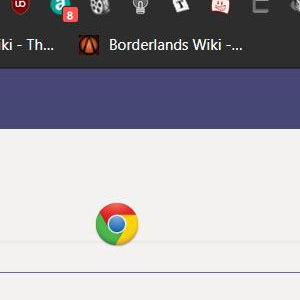chrome: (93, 202, 139, 247)
